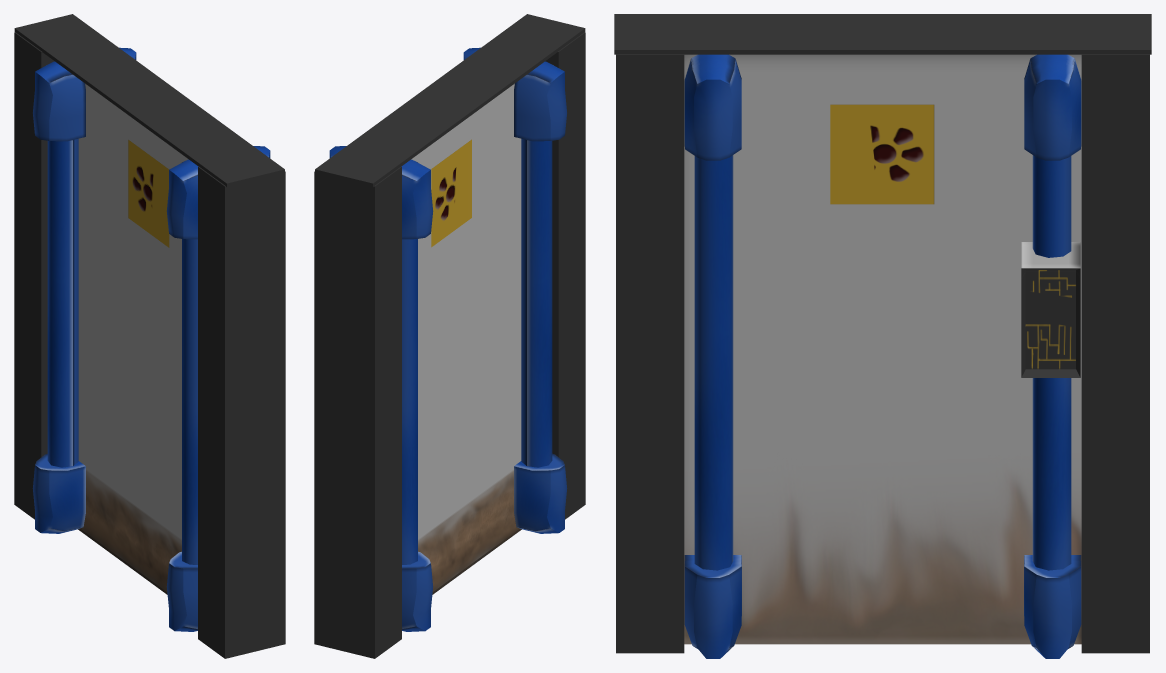
The model's file is Opening Door.FBX.
3 views of the same model, side by side, from view 1: azimuth 30°, elevation 25°; view 2: azimuth 150°, elevation 25°; view 3: azimuth 270°, elevation 25° (orthographic). The views are drawn at different scales.
Visible parts, largest first — view 1: Solids, Door, HazardSign; view 2: Solids, Door, HazardSign; view 3: Door, Solids, HazardSign.
Part boxes in pixels (x1,y1,x2,y2): Solids: [14, 14, 285, 658]; Door: [78, 83, 188, 594]; HazardSign: [128, 140, 169, 247]; Solids: [314, 14, 585, 658]; Door: [411, 83, 521, 594]; HazardSign: [431, 139, 471, 247]; Door: [684, 54, 1081, 644]; Solids: [614, 14, 1151, 658]; HazardSign: [830, 104, 934, 204].
Size of the model in its own units: 18.71 by 83.62 by 66.71.
